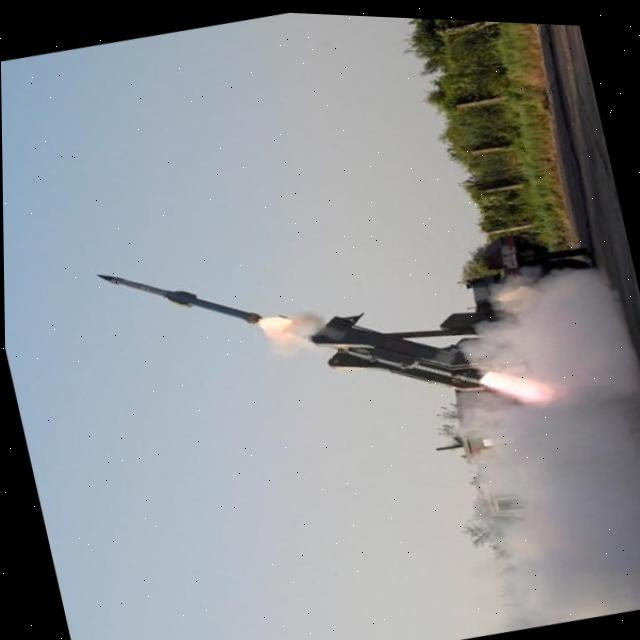missile: (89, 238, 263, 352)
